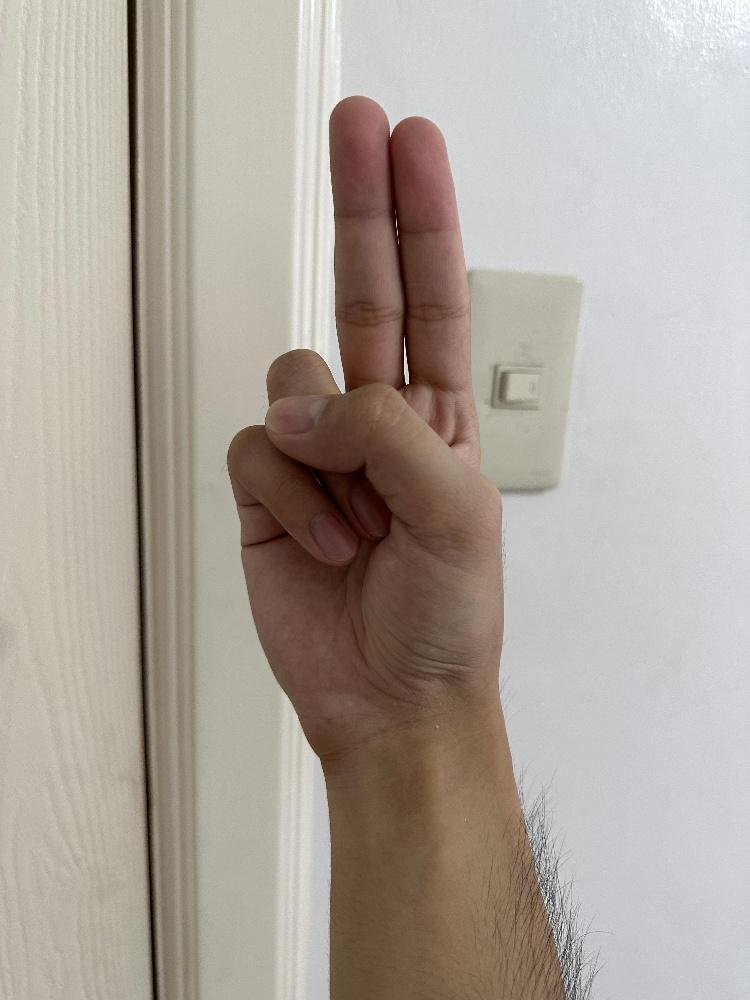u: (222, 92, 511, 758)
